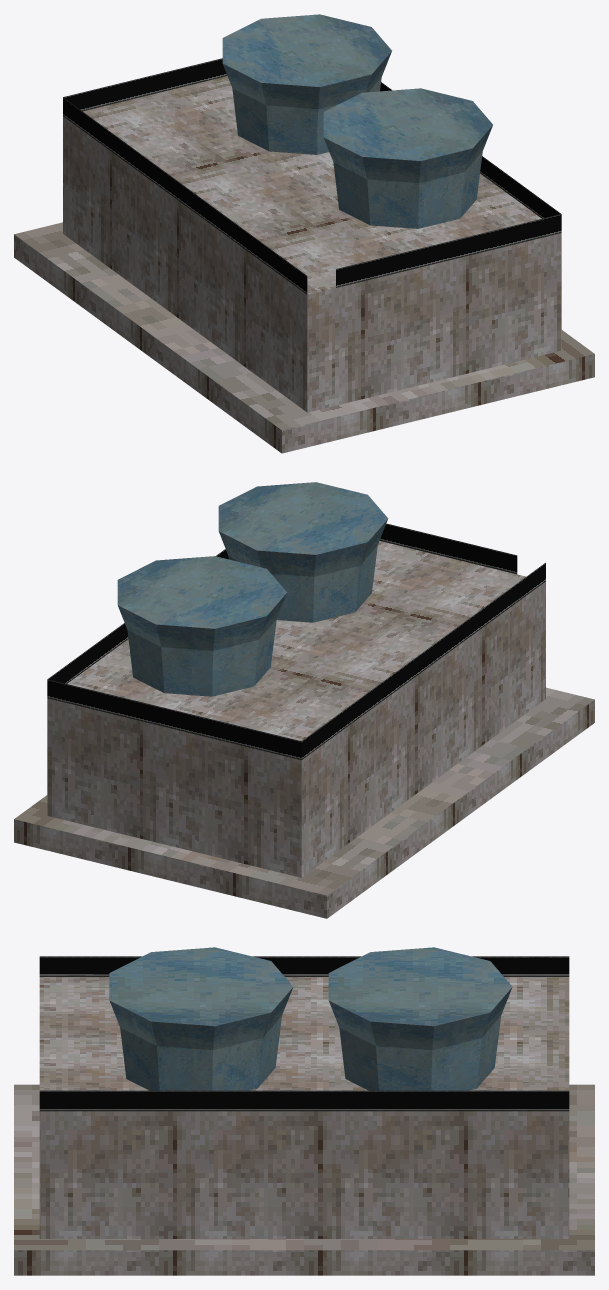
Rendered from lodtplant06.obj.
3 views of the same model, one above another, from view 1: azimuth 30°, elevation 25°; view 2: azimuth 150°, elevation 25°; view 3: azimuth 270°, elevation 25° (orthographic). The views are drawn at different scales.
Parts seen in each view (by area): view 1: lodtplant06; view 2: lodtplant06; view 3: lodtplant06.
Part boxes in pixels (<box>): lodtplant06: <box>14,14,594,453</box>; lodtplant06: <box>14,482,594,918</box>; lodtplant06: <box>14,947,594,1275</box>.
Size of the model in its own units: 28.2 by 18.56 by 41.8.
Materials: 3 (3 with a texture image).
